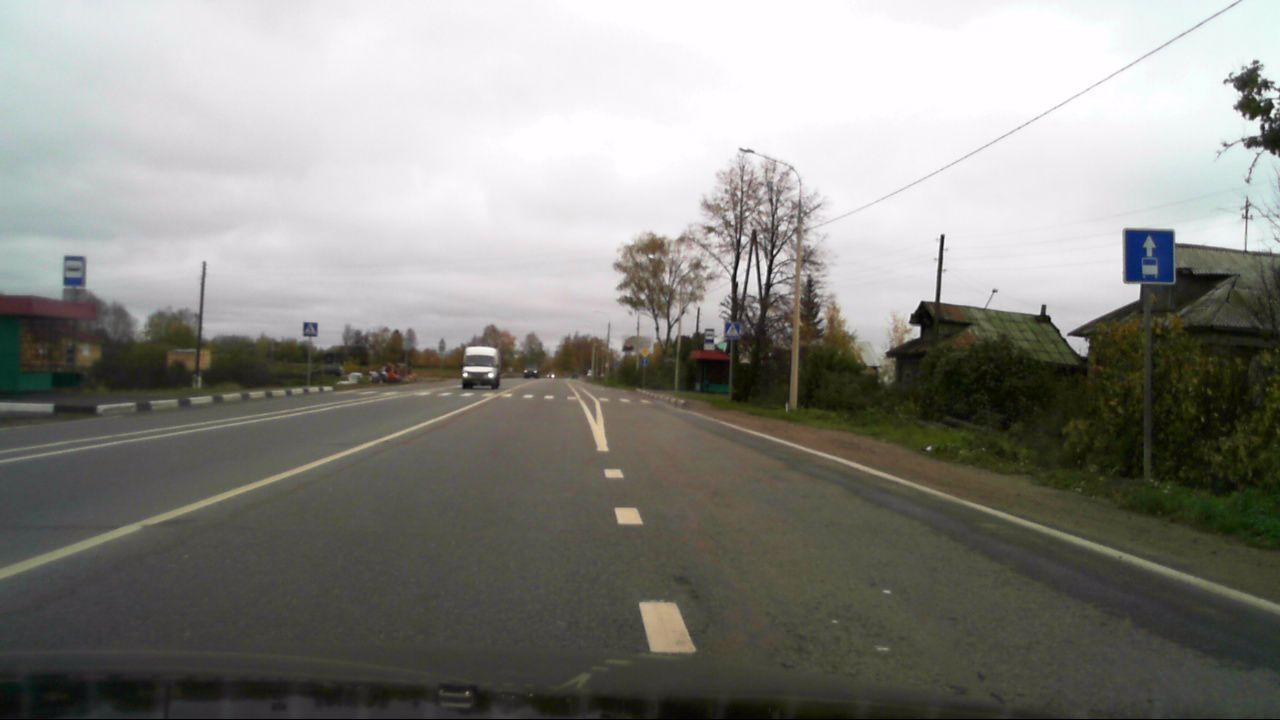2_1: (641, 347, 650, 356)
4_1_1: (642, 358, 648, 366)
5_14_1: (1120, 225, 1177, 286)
5_16: (704, 329, 715, 342)
5_19_1: (724, 322, 740, 339)
5_19_2: (303, 321, 318, 337)
